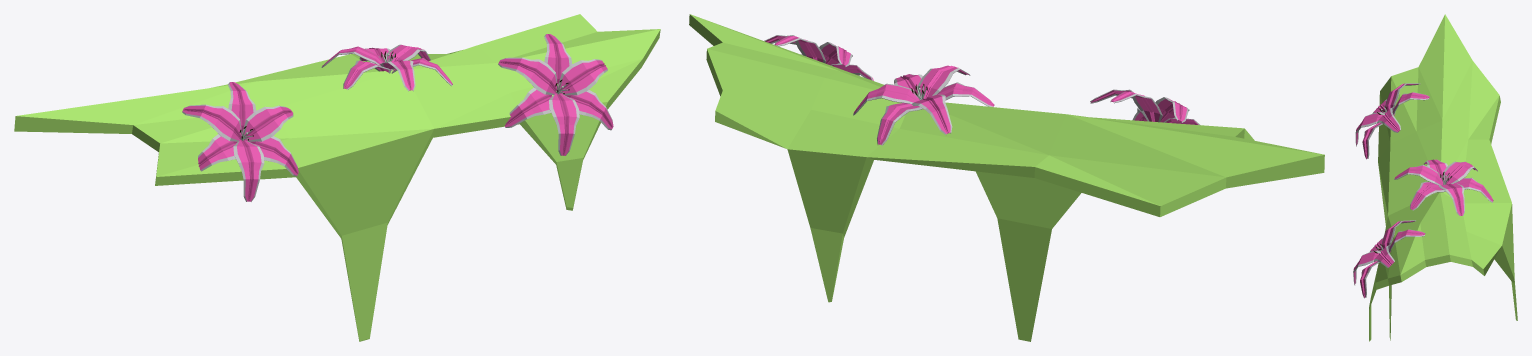
File: mossFlowers.fbx
3 views of the same model, side by side, from view 1: azimuth 30°, elevation 25°; view 2: azimuth 150°, elevation 25°; view 3: azimuth 270°, elevation 25° (orthographic). The views are drawn at different scales.
Parts seen in each view (by area): view 1: MossFlowers; view 2: MossFlowers; view 3: MossFlowers.
Part boxes in pixels (x1,y1,x2,y2): MossFlowers: (14, 14, 660, 341); MossFlowers: (689, 14, 1324, 341); MossFlowers: (1353, 14, 1517, 341).
Size of the model in its own units: 0.6694 by 0.2849 by 0.2031.
